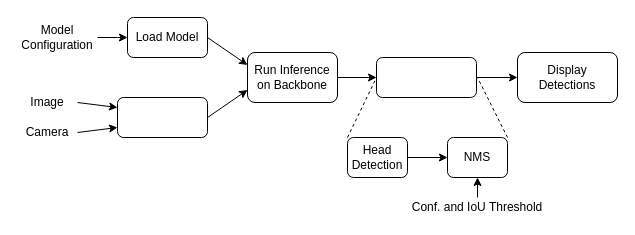
The diagram is 635 pixels wide and 235 high, and some of its shapes have lost their labels. Here are the shapes that lost their labels. From the top down, the centre of each, then its label:
At (426,77): "Post-Processing".
At (162,117): "Resize Image".
